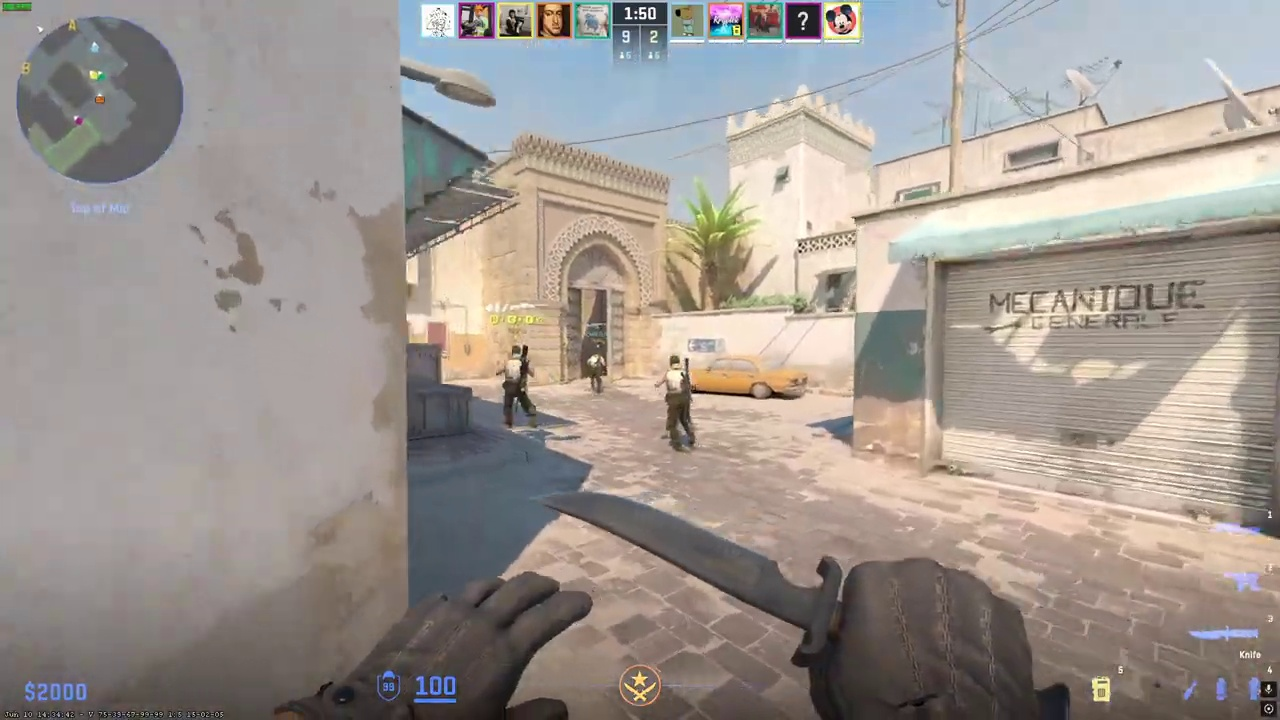Terrorist: (659, 355, 695, 452), (498, 345, 537, 428), (587, 351, 606, 394)
